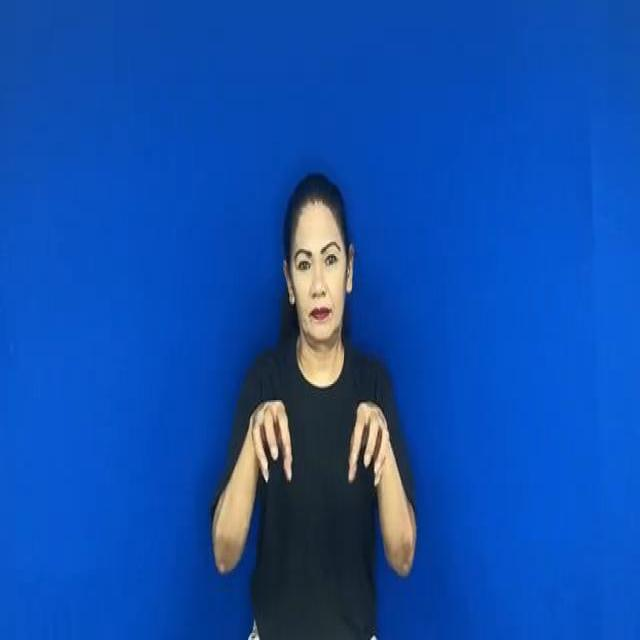egg: (234, 378, 400, 502)
